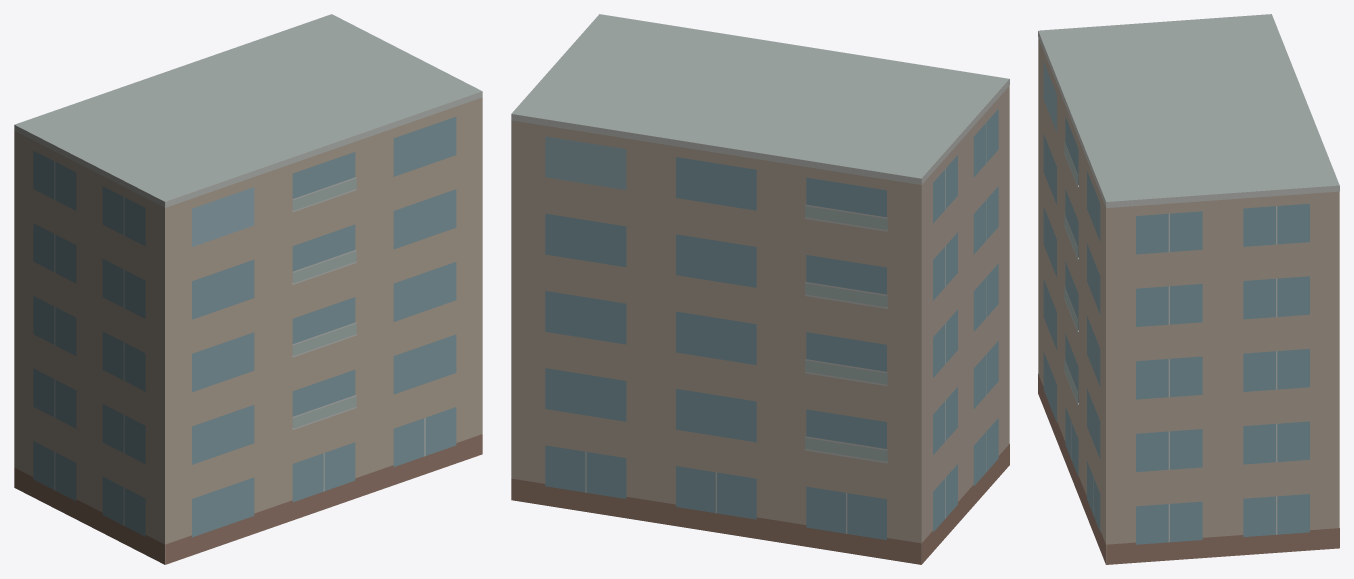
Rendered from survey-upis-32704273.glb.
3 views of the same model, side by side, from view 1: azimuth 30°, elevation 25°; view 2: azimuth 150°, elevation 25°; view 3: azimuth 270°, elevation 25° (orthographic). The views are drawn at different scales.
Visible parts, largest first — view 1: survey-upis-32704273.tmp; view 2: survey-upis-32704273.tmp; view 3: survey-upis-32704273.tmp.
Part boxes in pixels (x1,y1,x2,y2): survey-upis-32704273.tmp: [14, 14, 482, 564]; survey-upis-32704273.tmp: [511, 14, 1009, 564]; survey-upis-32704273.tmp: [1038, 14, 1339, 564].
Size of the model in its own units: 16.31 by 14.66 by 11.06.
